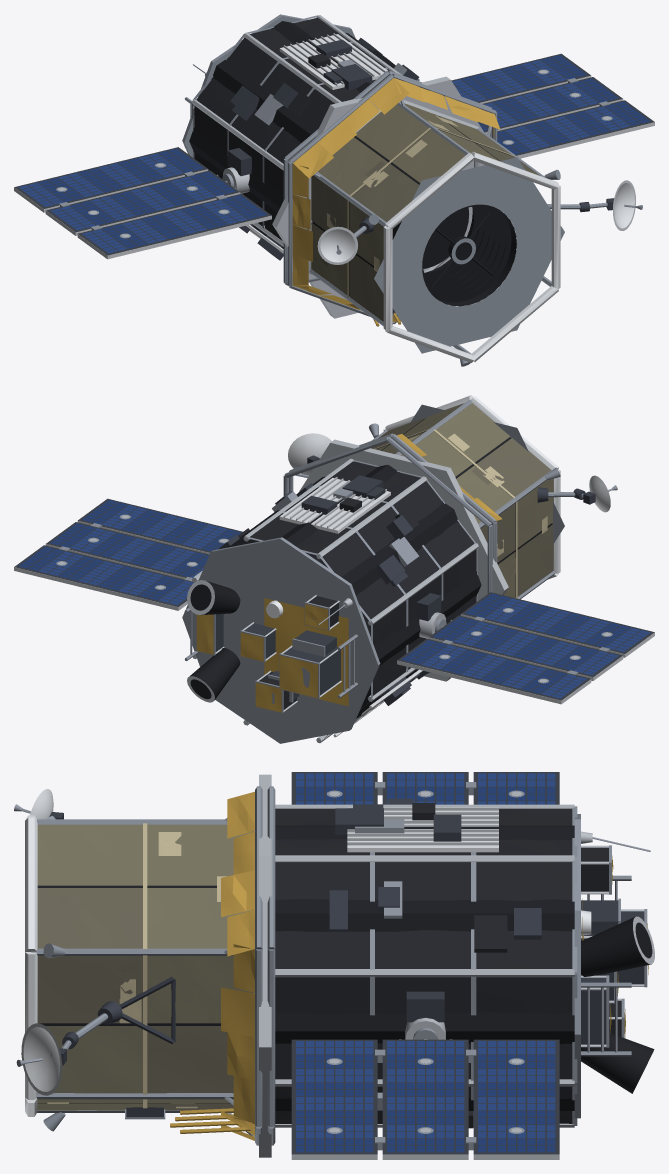
The model's file is worldview-2.glb.
3 views of the same model, one above another, from view 1: azimuth 30°, elevation 25°; view 2: azimuth 150°, elevation 25°; view 3: azimuth 270°, elevation 25° (orthographic). The views are drawn at different scales.
Visible parts, largest first — view 1: body, foil, solar-panel; view 2: body, foil, solar-panel; view 3: foil, body, solar-panel.
Boxes of the visible parts, x1,y1,x2,y2 form: body: (14,14,654,366); foil: (194,17,539,326); solar-panel: (18,55,650,253); body: (14,395,654,743); foil: (196,403,553,737); solar-panel: (18,500,650,698); foil: (37,791,648,1140); body: (14,772,654,1159); solar-panel: (296,773,555,1152).
Size of the model in its own units: 7.16 by 3.12 by 5.07.
